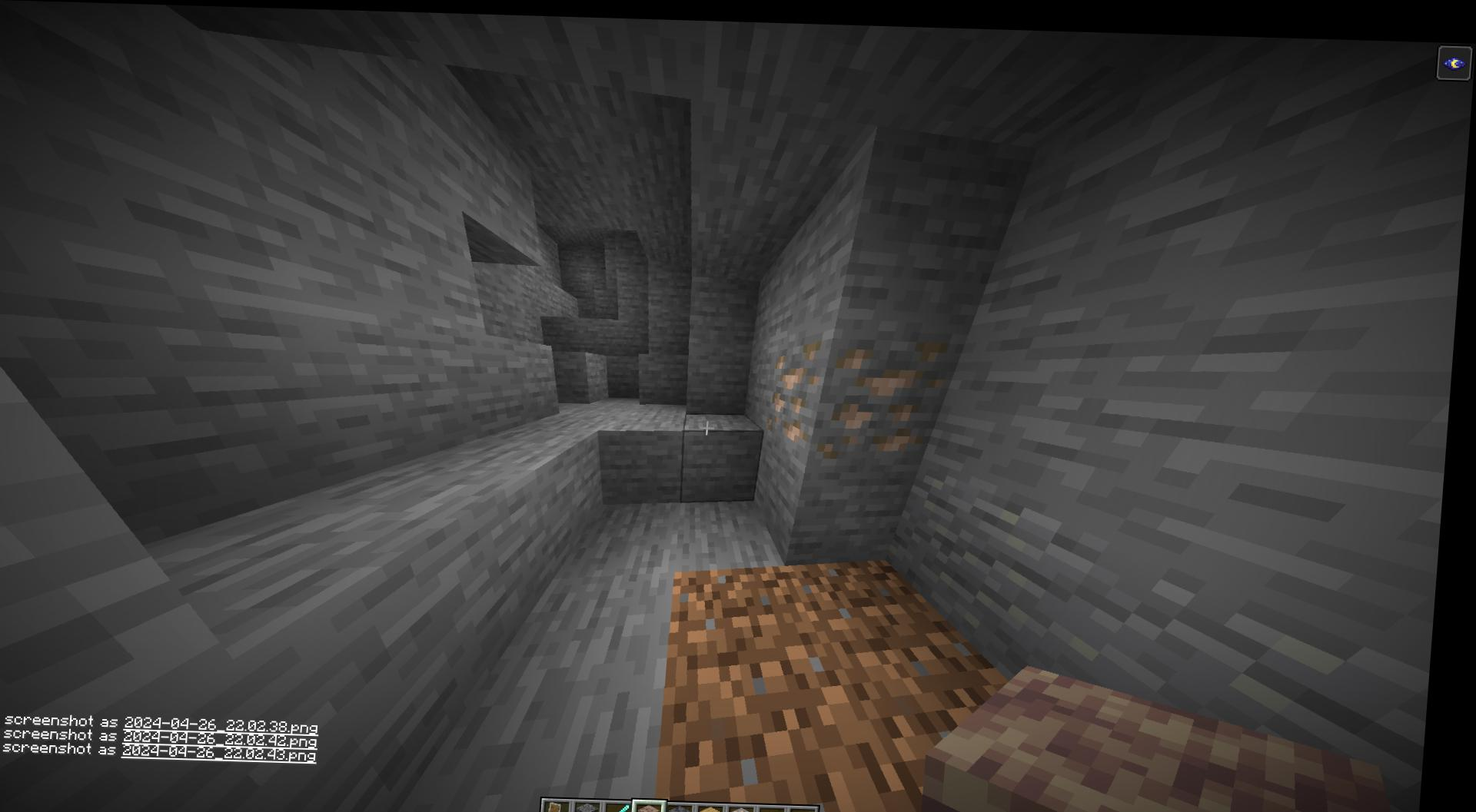iron ore: (821, 334, 948, 456), (765, 334, 830, 435)
